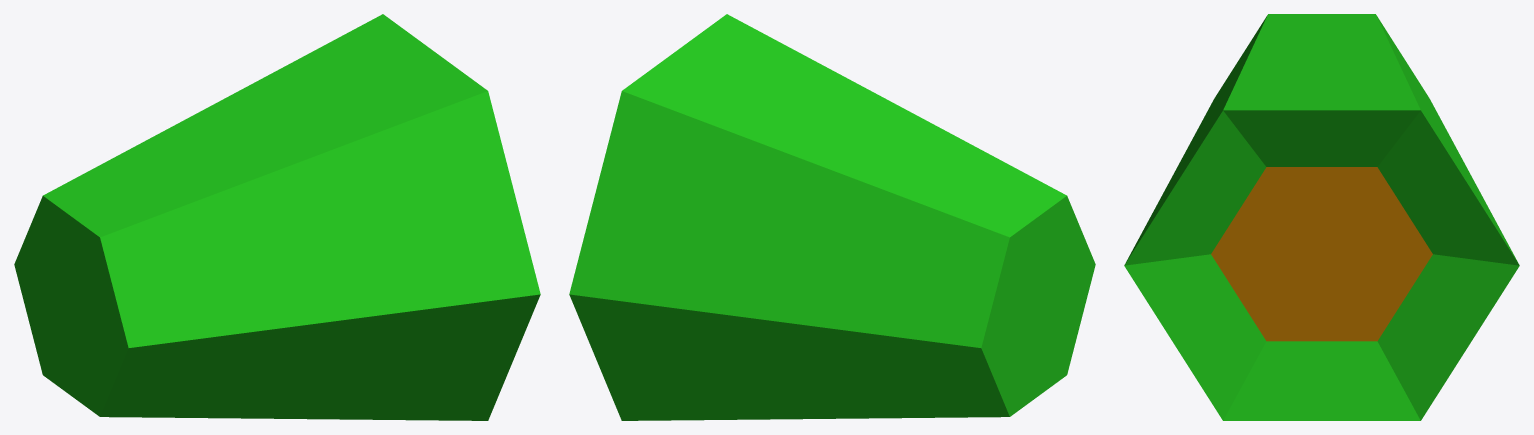
File: shipflare.obj
3 renders of one model, left to right at view 1: azimuth 30°, elevation 25°; view 2: azimuth 150°, elevation 25°; view 3: azimuth 270°, elevation 25°, orthographic. The views are drawn at different scales.
Parts seen in each view (by area): view 1: Light; view 2: Light; view 3: Light.
Boxes of the visible parts, <box> form: Light: <box>14,14,540,420</box>; Light: <box>569,14,1095,420</box>; Light: <box>1124,14,1519,420</box>.
Bounding box in the file's own units: 1 × 0.866 × 1.
